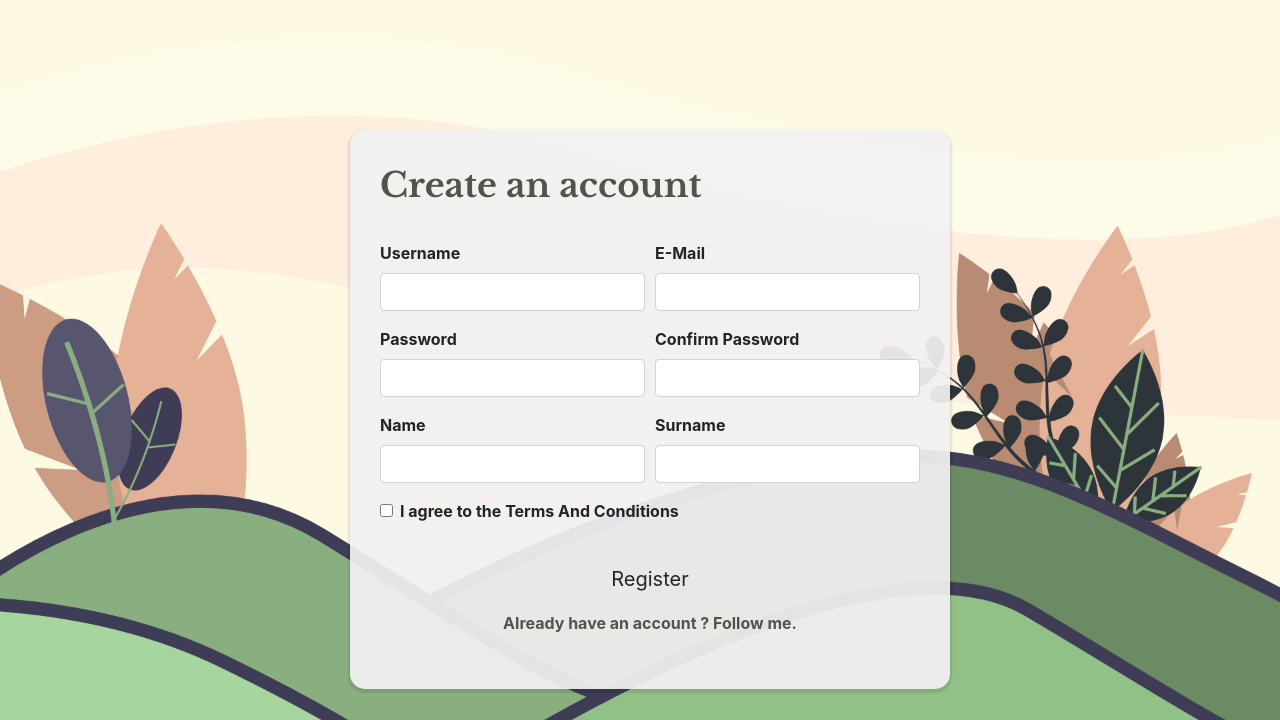
Test case: handleChange works correctly and sends error message for wrong name
Type "wrong" into the password field named "password".
click(512, 378); type("wrong")  # box [380,359,645,397]
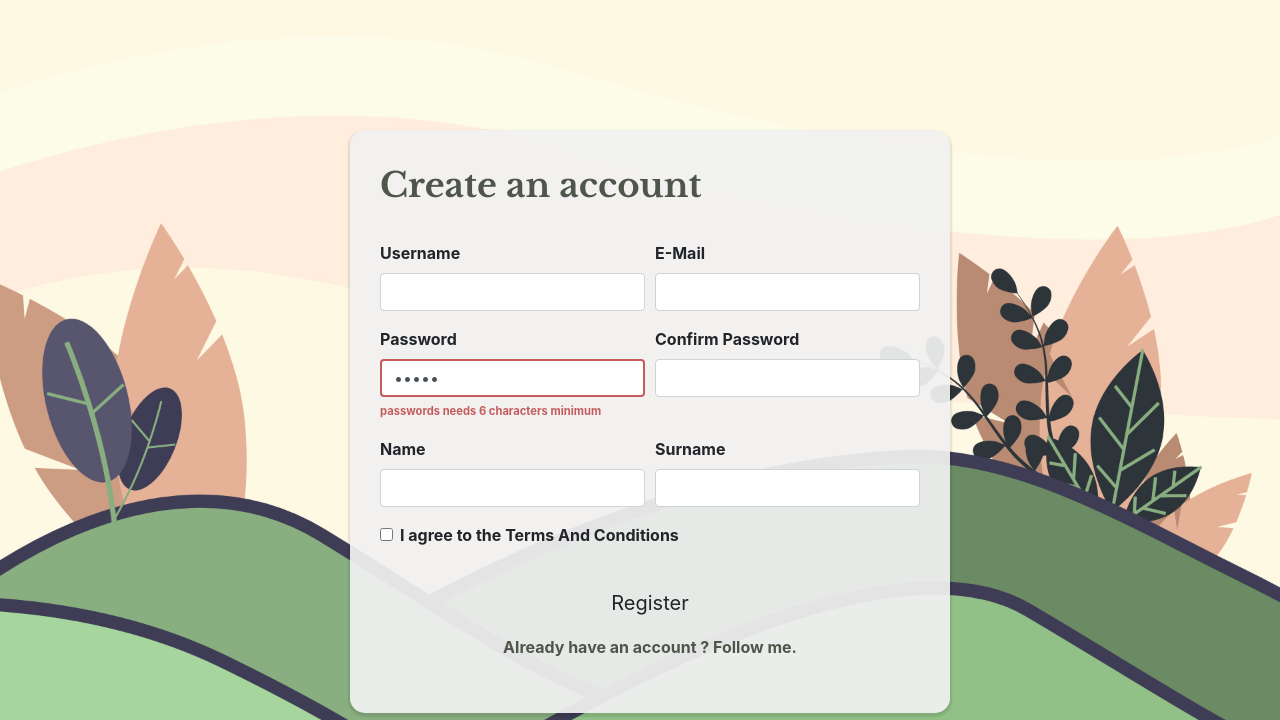
Expected: the element with test id "passwordError" reads "passwords needs 6 characters minimum", [380,404,601,418]
